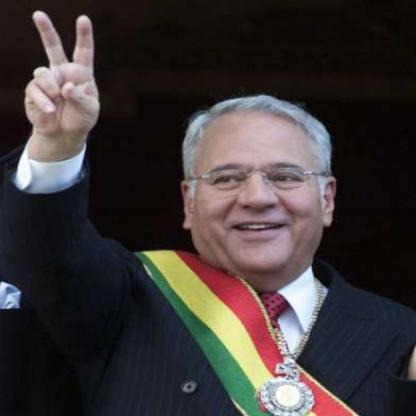face: (190, 99, 326, 276)
